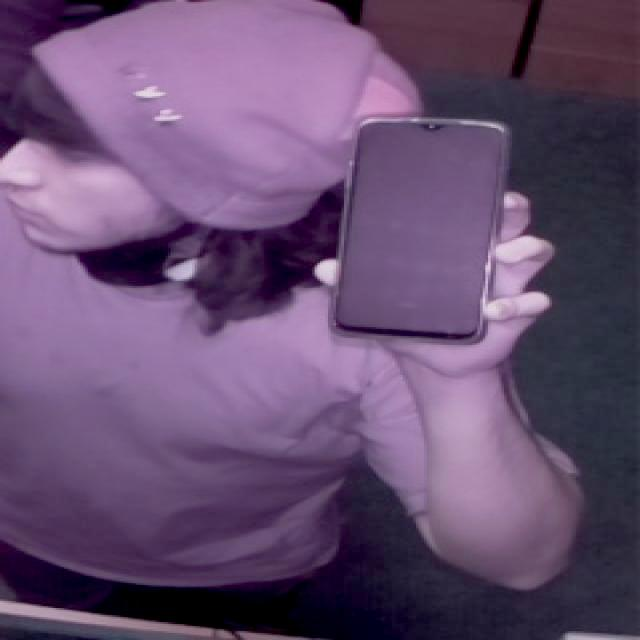phone: (321, 107, 528, 356)
